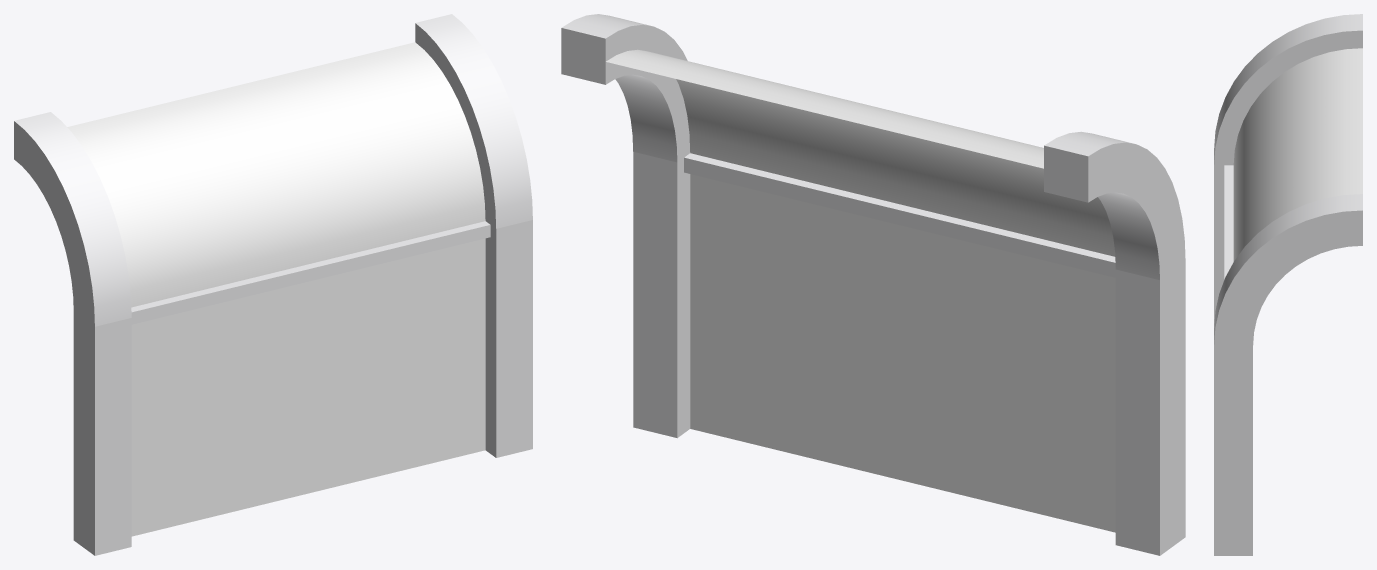
The model's file is fenceCurved.glb.
3 renders of one model, left to right at view 1: azimuth 30°, elevation 25°; view 2: azimuth 150°, elevation 25°; view 3: azimuth 270°, elevation 25°, orthographic. The views are drawn at different scales.
Visible parts, largest first — view 1: fenceCurved(Clone); view 2: fenceCurved(Clone); view 3: fenceCurved(Clone).
Boxes of the visible parts, x1,y1,x2,y2 form: fenceCurved(Clone): (14,14,532,555); fenceCurved(Clone): (561,14,1185,555); fenceCurved(Clone): (1214,14,1362,555).
Bounding box in the file's own units: 1 × 0.82 × 0.32.
1 material, 1 textured.
